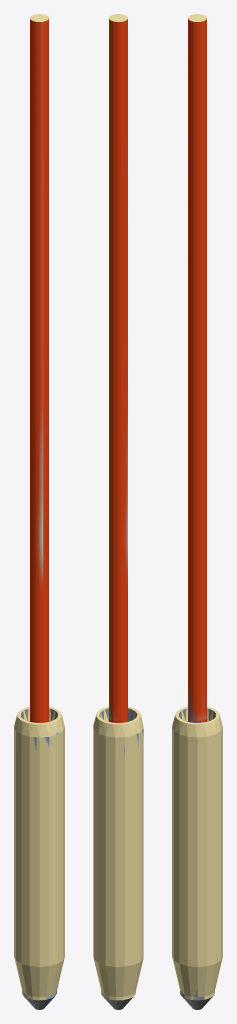
Rendered from sword.obj.
3 views of the same model, side by side, from view 1: azimuth 90°, elevation 25°; view 2: azimuth 150°, elevation 25°; view 3: azimuth 270°, elevation 25° (orthographic).
Visible parts, largest first — view 1: Cylinder_Cylinder.002; view 2: Cylinder_Cylinder.002; view 3: Cylinder_Cylinder.002.
Boxes of the visible parts, x1=… form: Cylinder_Cylinder.002: x1=14, y1=14, x2=64, y2=1009; Cylinder_Cylinder.002: x1=93, y1=14, x2=143, y2=1009; Cylinder_Cylinder.002: x1=172, y1=14, x2=222, y2=1009.
Size of the model in its own units: 2 by 42.89 by 2.
